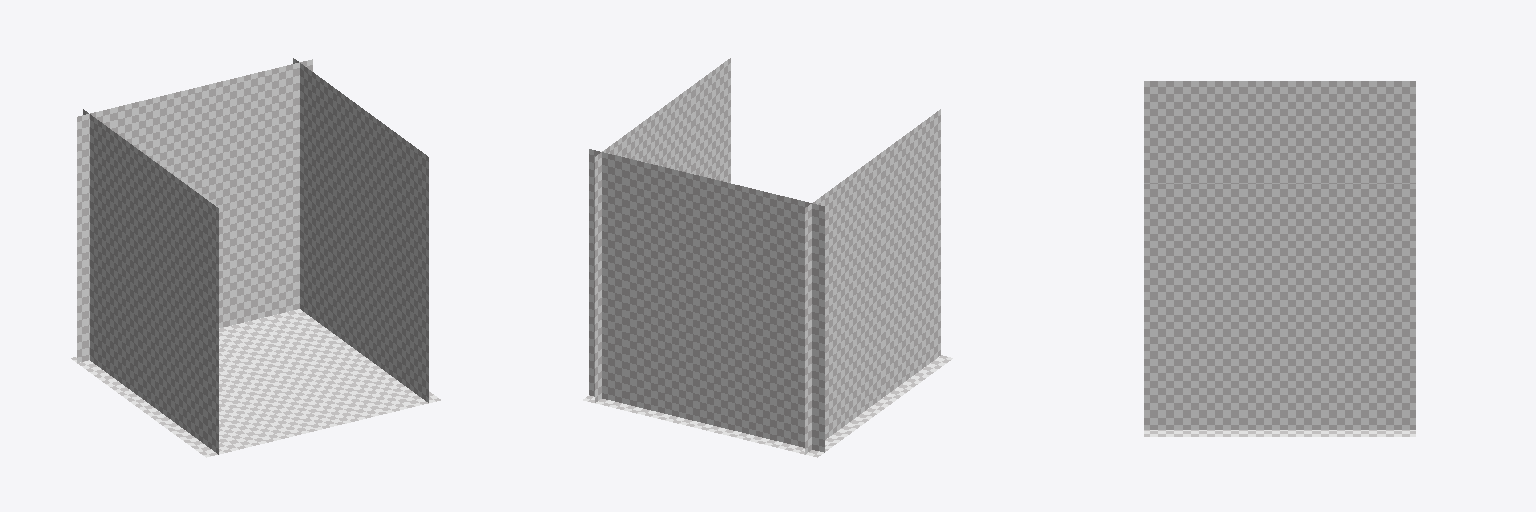
3 views of the same model, side by side, from view 1: azimuth 30°, elevation 25°; view 2: azimuth 150°, elevation 25°; view 3: azimuth 270°, elevation 25° (orthographic).
Parts seen in each view (by area): view 1: Plane.001_Plane, Plane.003_Plane, Plane.002_Plane, Plane; view 2: Plane.002_Plane, Plane.001_Plane, Plane.003_Plane, Plane; view 3: Plane.003_Plane, Plane.001_Plane, Plane.
Part boxes in pixels (bbox=[...]): Plane.001_Plane: bbox=[83, 109, 218, 454]; Plane.003_Plane: bbox=[293, 58, 428, 402]; Plane.002_Plane: bbox=[77, 59, 312, 362]; Plane: bbox=[71, 309, 440, 457]; Plane.002_Plane: bbox=[589, 149, 824, 452]; Plane.001_Plane: bbox=[805, 109, 940, 454]; Plane.003_Plane: bbox=[595, 58, 730, 402]; Plane: bbox=[583, 355, 952, 457]; Plane.003_Plane: bbox=[1144, 184, 1415, 429]; Plane.001_Plane: bbox=[1144, 81, 1415, 183]; Plane: bbox=[1144, 430, 1415, 436].
Size of the model in its own units: 26.77 by 26.77 by 26.77.
1 materials, 1 textured.